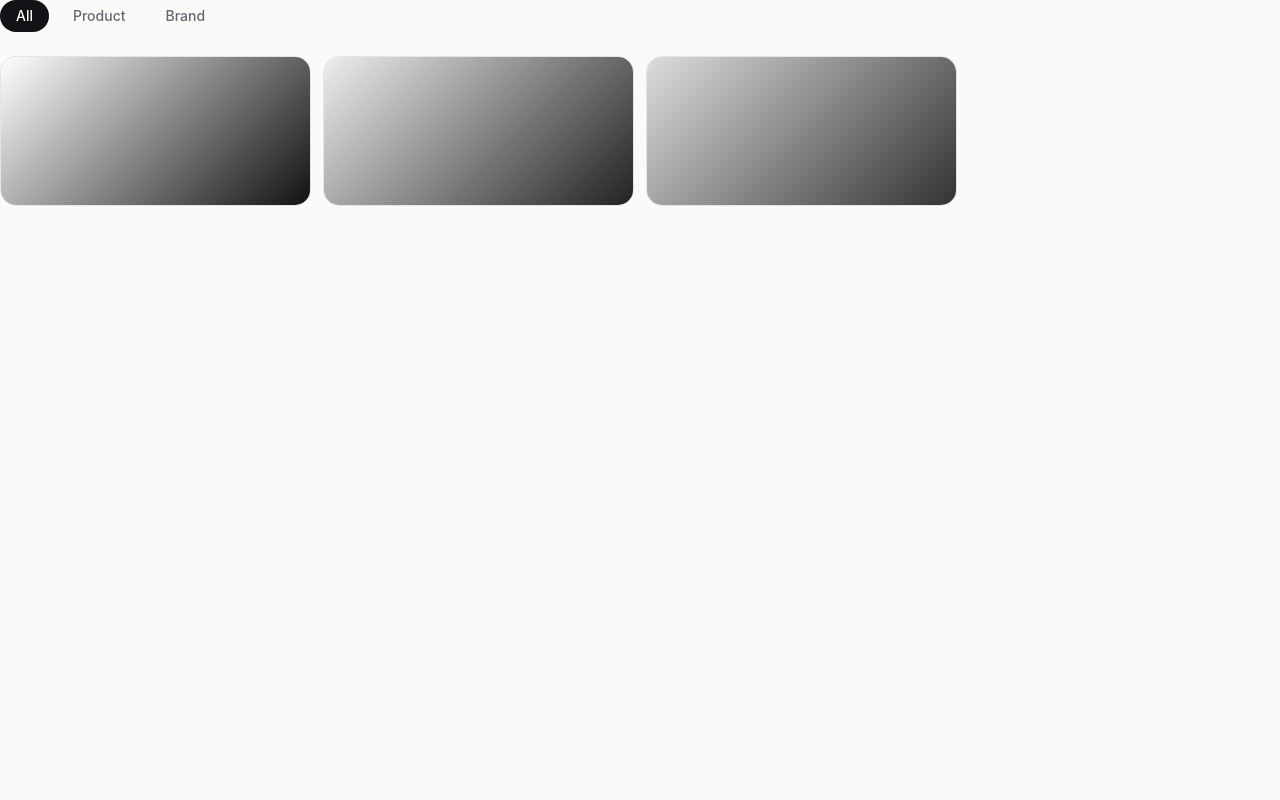
Test: Gallery › closes the lightbox with Escape
Click the 3rd button named "Pricing": (802, 131) 646,56 -> 957,206
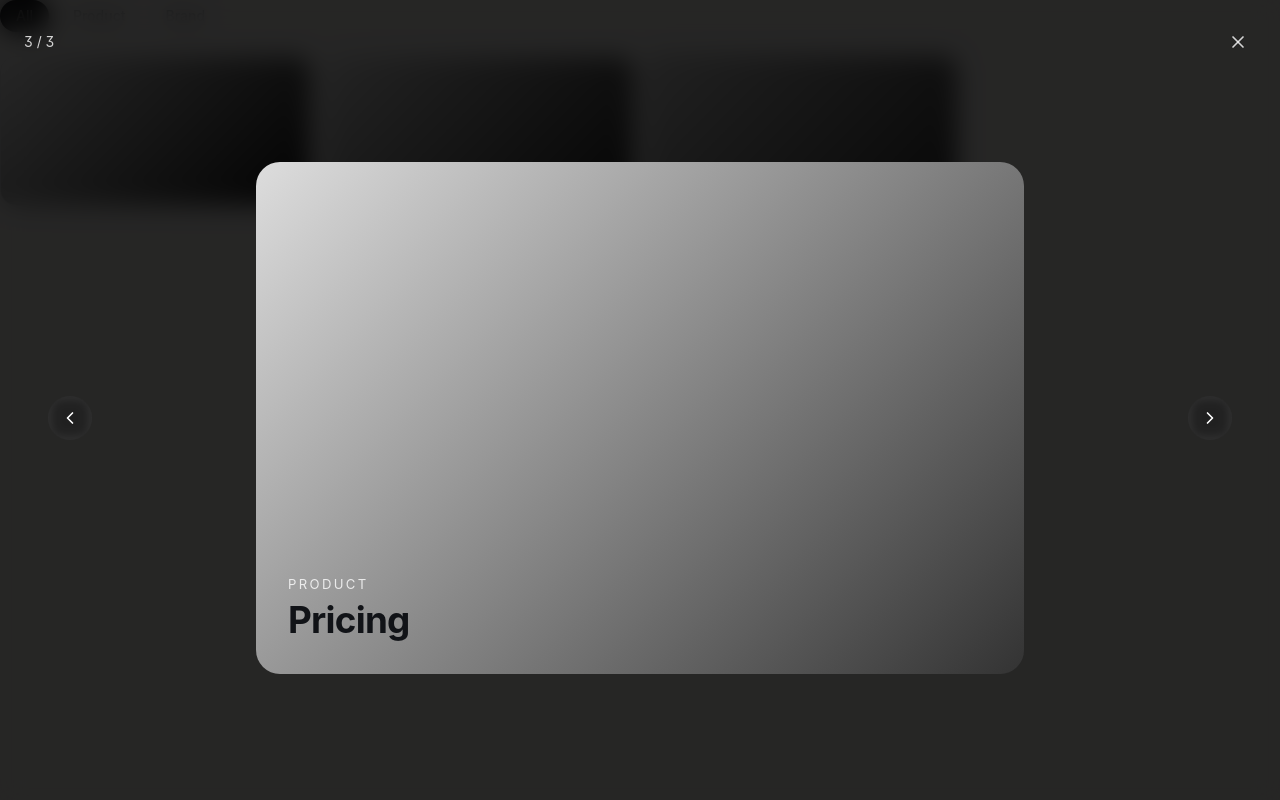
Expected: the dialog is shown
Press Escape
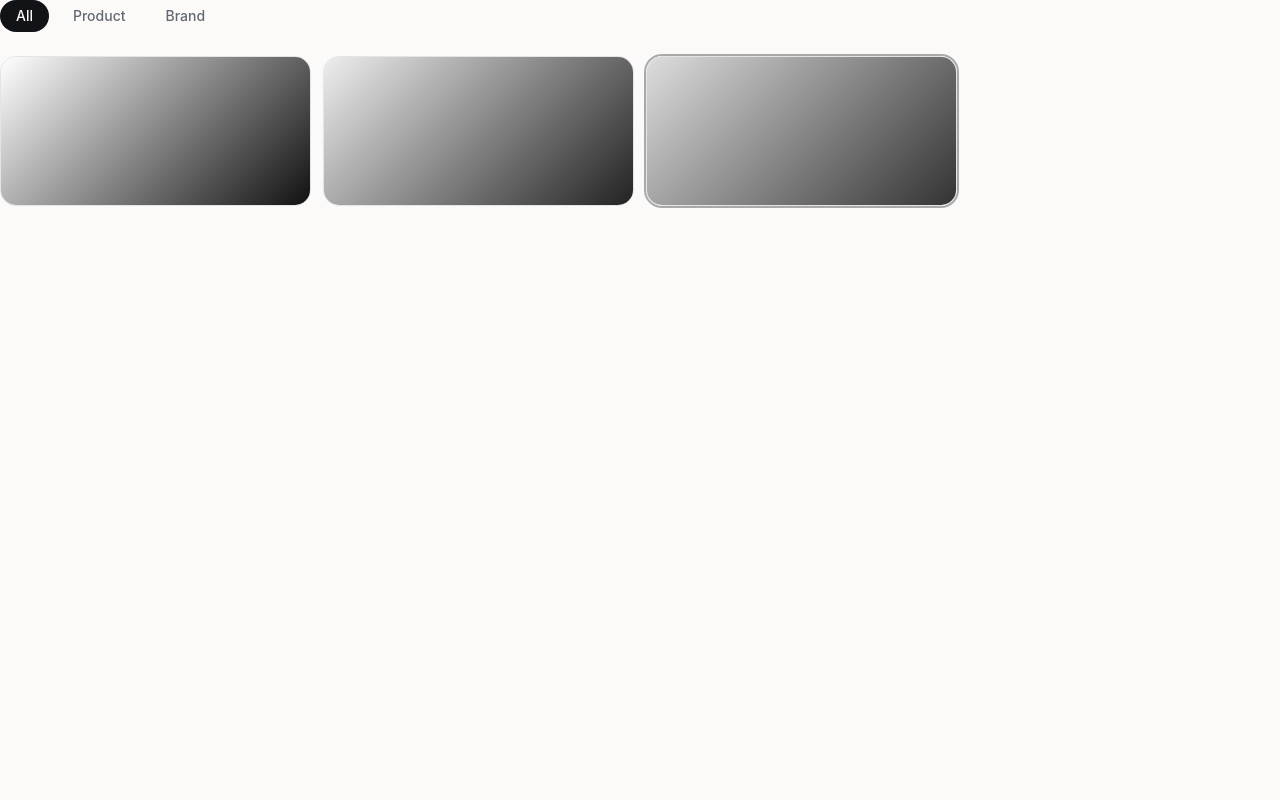
Expected: the dialog is gone
